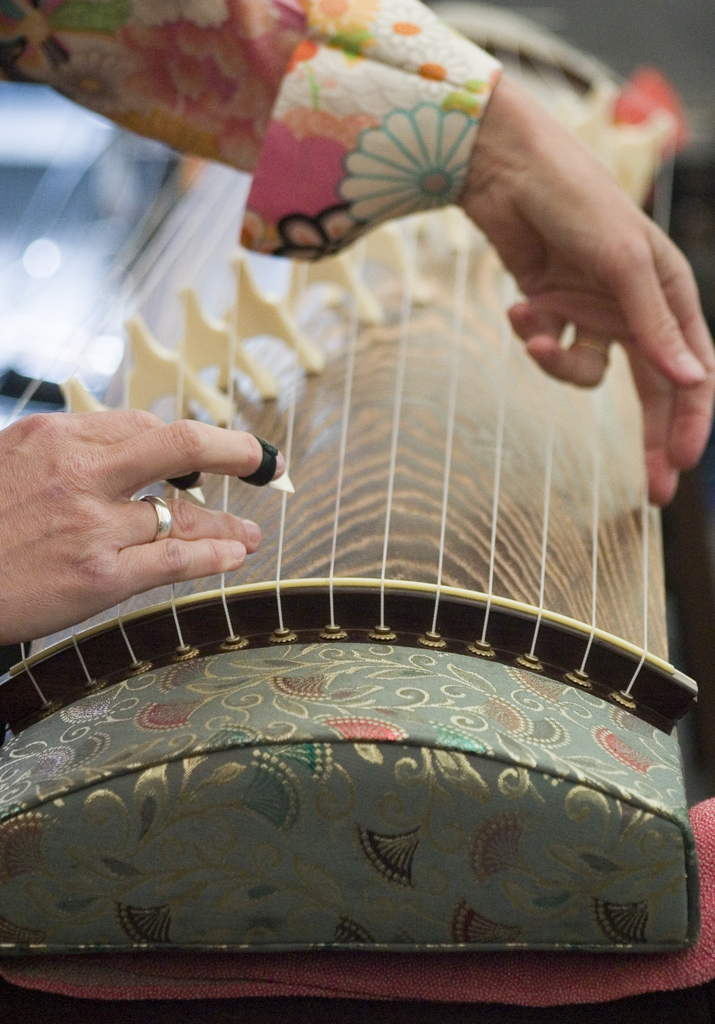Person: (0, 0, 715, 646)
